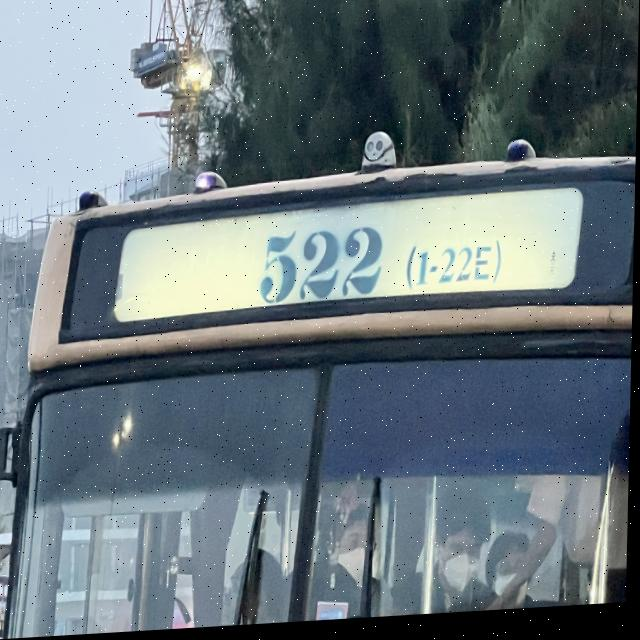BMTA-bus: (0, 108, 638, 640)
Bus-Line-Number: (249, 209, 518, 310)
